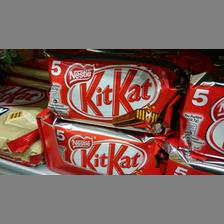Schokolade: (43, 57, 171, 131), (47, 120, 162, 172), (179, 75, 223, 158)
